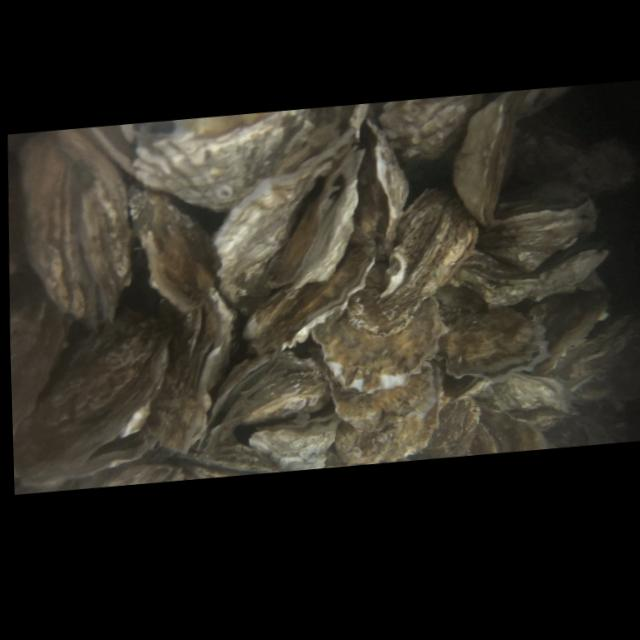Oyster-Closed: (9, 299, 176, 479), (17, 122, 136, 337), (240, 241, 382, 358), (58, 349, 167, 479), (449, 89, 528, 229), (246, 413, 343, 466)
Oyster-Indeterminate: (91, 98, 377, 227), (347, 182, 481, 331), (5, 161, 68, 430), (122, 164, 221, 317), (313, 292, 452, 399), (446, 235, 609, 313), (480, 181, 598, 276), (377, 92, 485, 168), (326, 376, 440, 435), (146, 366, 217, 458), (328, 418, 438, 469), (416, 389, 493, 461), (533, 286, 600, 363), (470, 403, 551, 456), (97, 455, 190, 489)
Oyster-Open: (209, 139, 370, 321), (199, 349, 332, 457), (444, 302, 552, 387), (349, 126, 412, 262), (162, 296, 233, 395), (481, 368, 575, 428), (176, 436, 273, 482)
